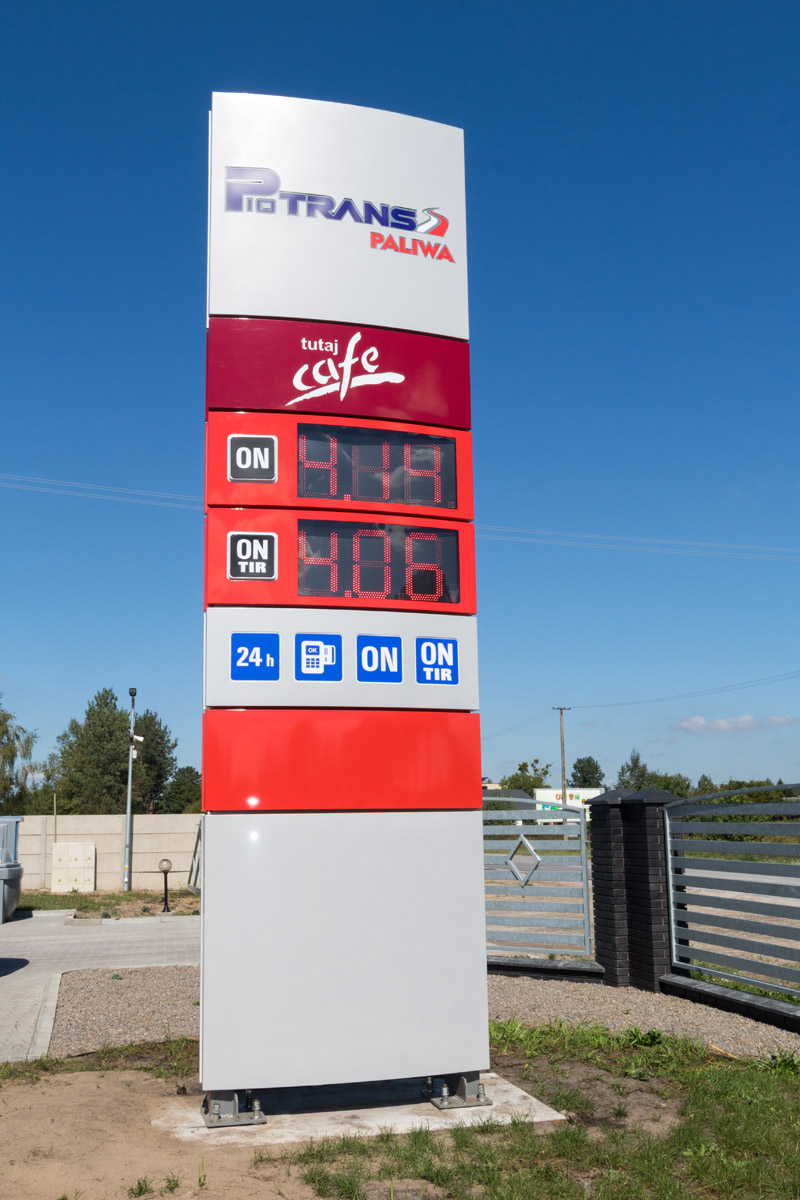ON: (222, 429, 281, 490), (226, 527, 276, 584)
